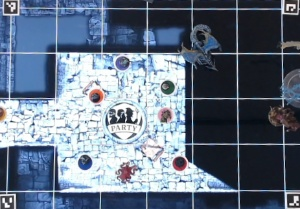blue: (73, 151, 96, 174)
green: (158, 79, 176, 96)
orange: (86, 84, 109, 105)
pink: (154, 106, 175, 124)
red: (167, 154, 188, 172)
violet: (111, 54, 133, 72)
yellow: (0, 103, 9, 121)
